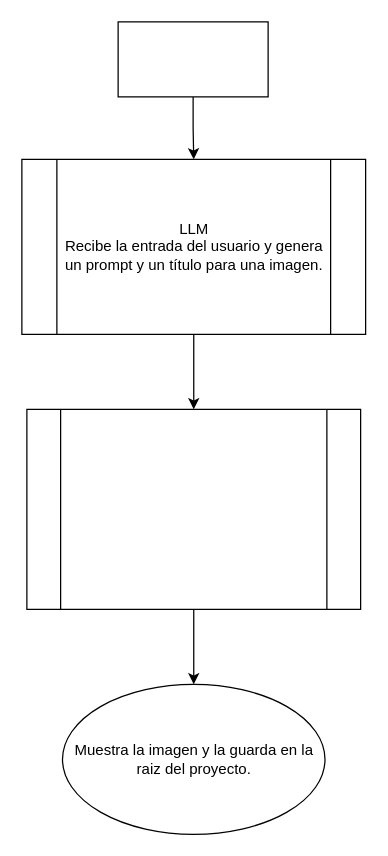
Image size: 388x856. Some labels were removed from this diagram. Here are the shapes that lost their labels. From the top down, the centre of each, then its label:
(x=192, y=59): Entrada del Usuario
(x=193, y=508): Diffuser Recibe las entradas que da el LLM y genera una imagen.
